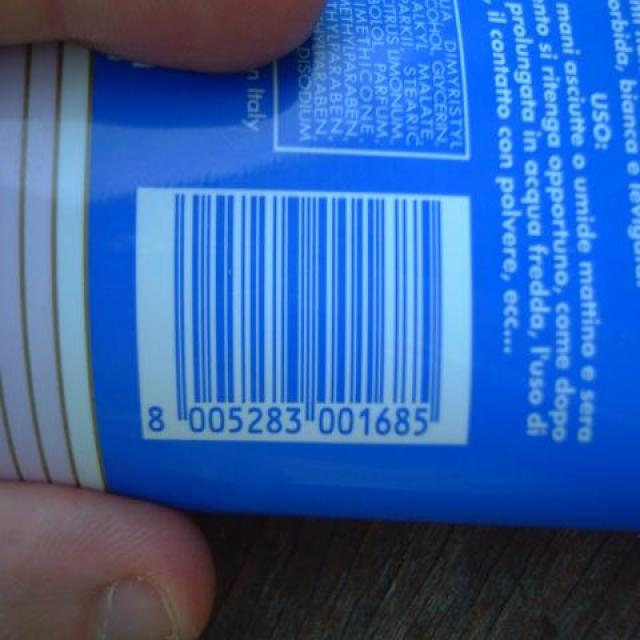Barcode: (134, 186, 474, 450)
